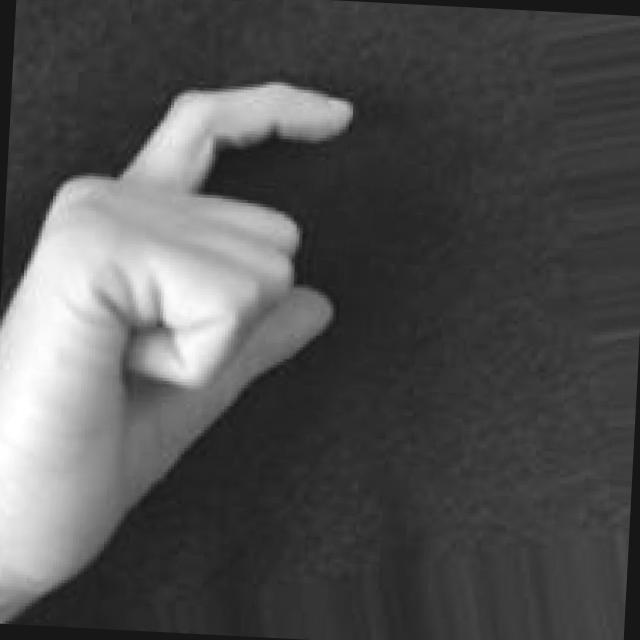C: (0, 65, 357, 465)
